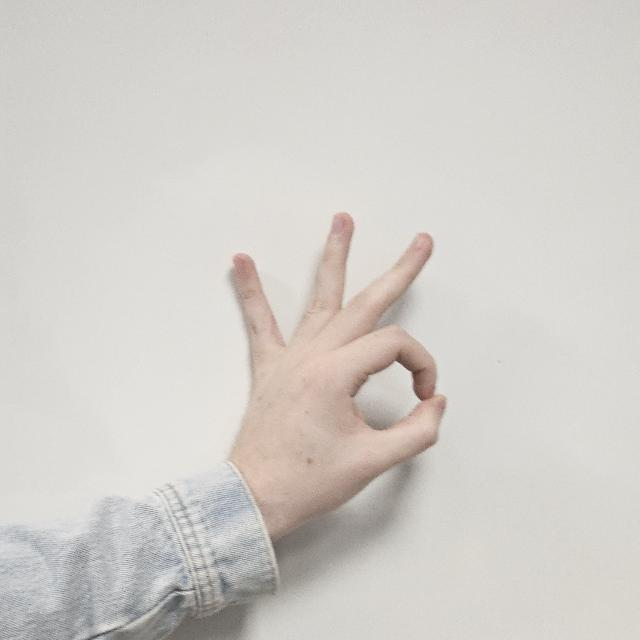Bolinha: (206, 207, 459, 528)
